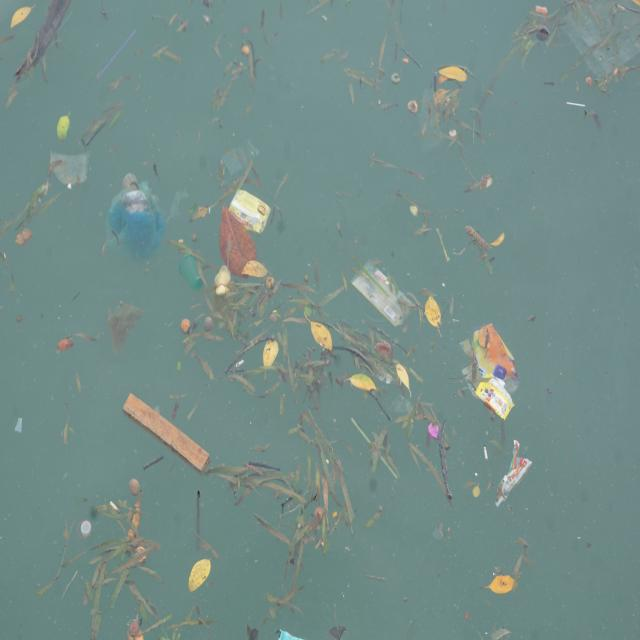Bungkus Makanan: (350, 258, 416, 329), (496, 438, 534, 509), (230, 188, 271, 239)
Bungkus Minuman: (180, 253, 206, 293)
Kantong Plastik: (104, 177, 170, 260), (46, 148, 92, 189)
